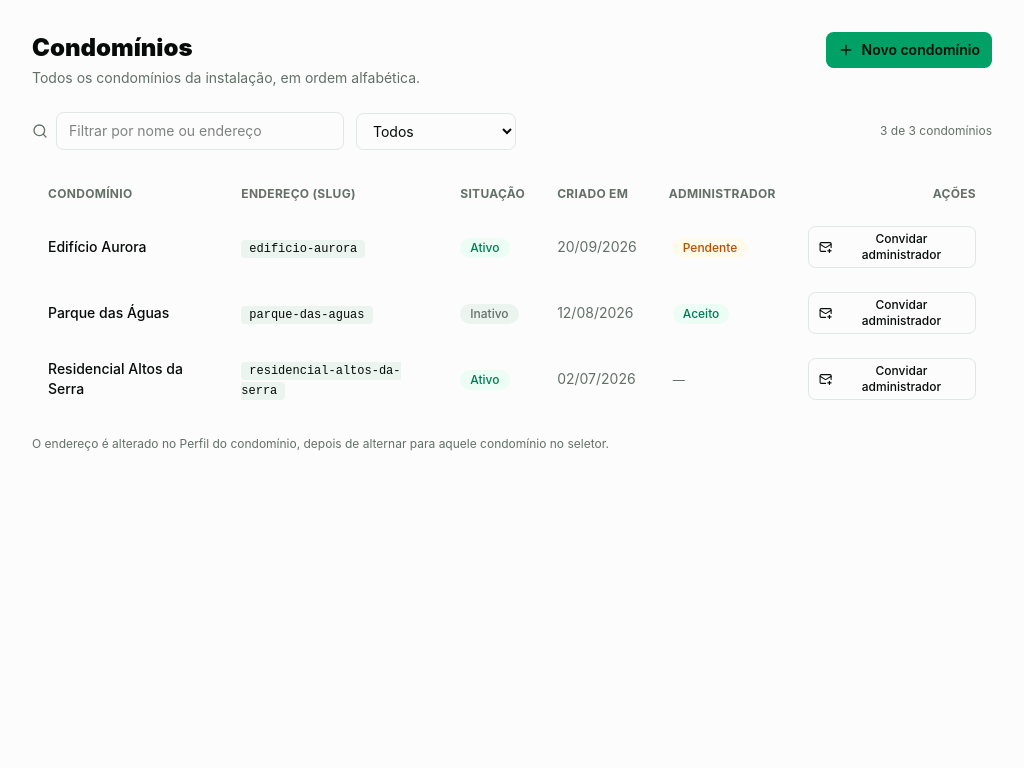
Test: TenantsAdminPage — the per-tenant invitation panel › derives three distinct badges from accepted_at and expires_at alone
Click the button "Pendente" at x=710, y=247, box [669, 234, 751, 260]
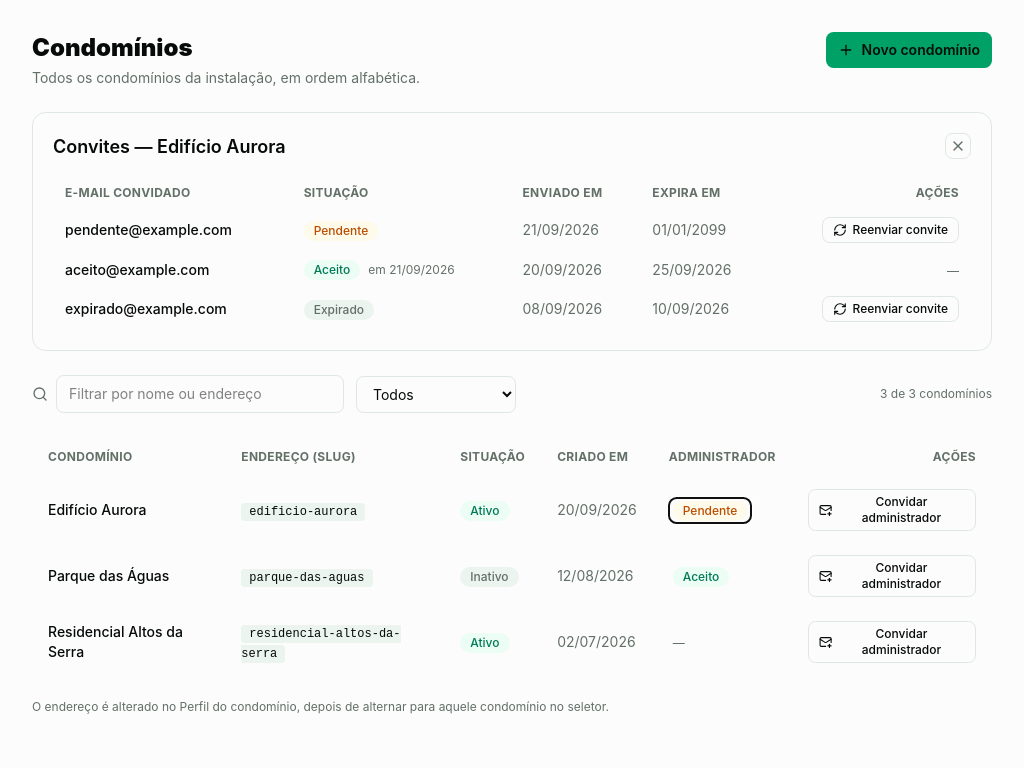
Expected: the text "pendente@example.com" is shown, [53, 209, 292, 251]
